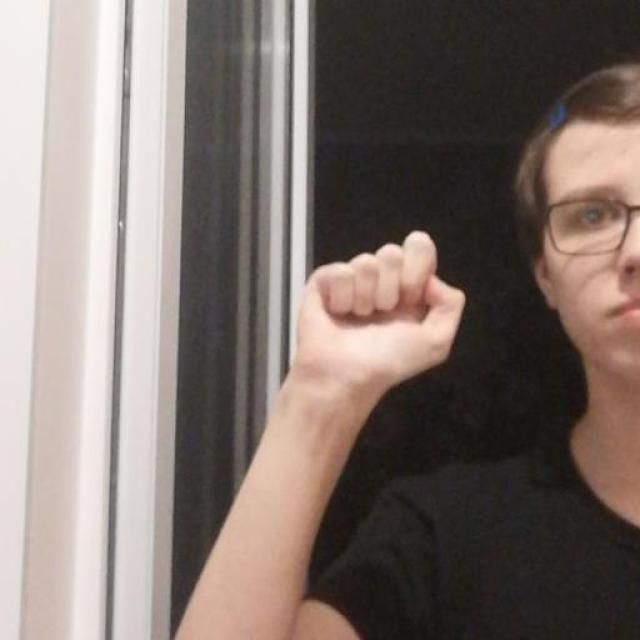hand: (288, 228, 467, 408)
